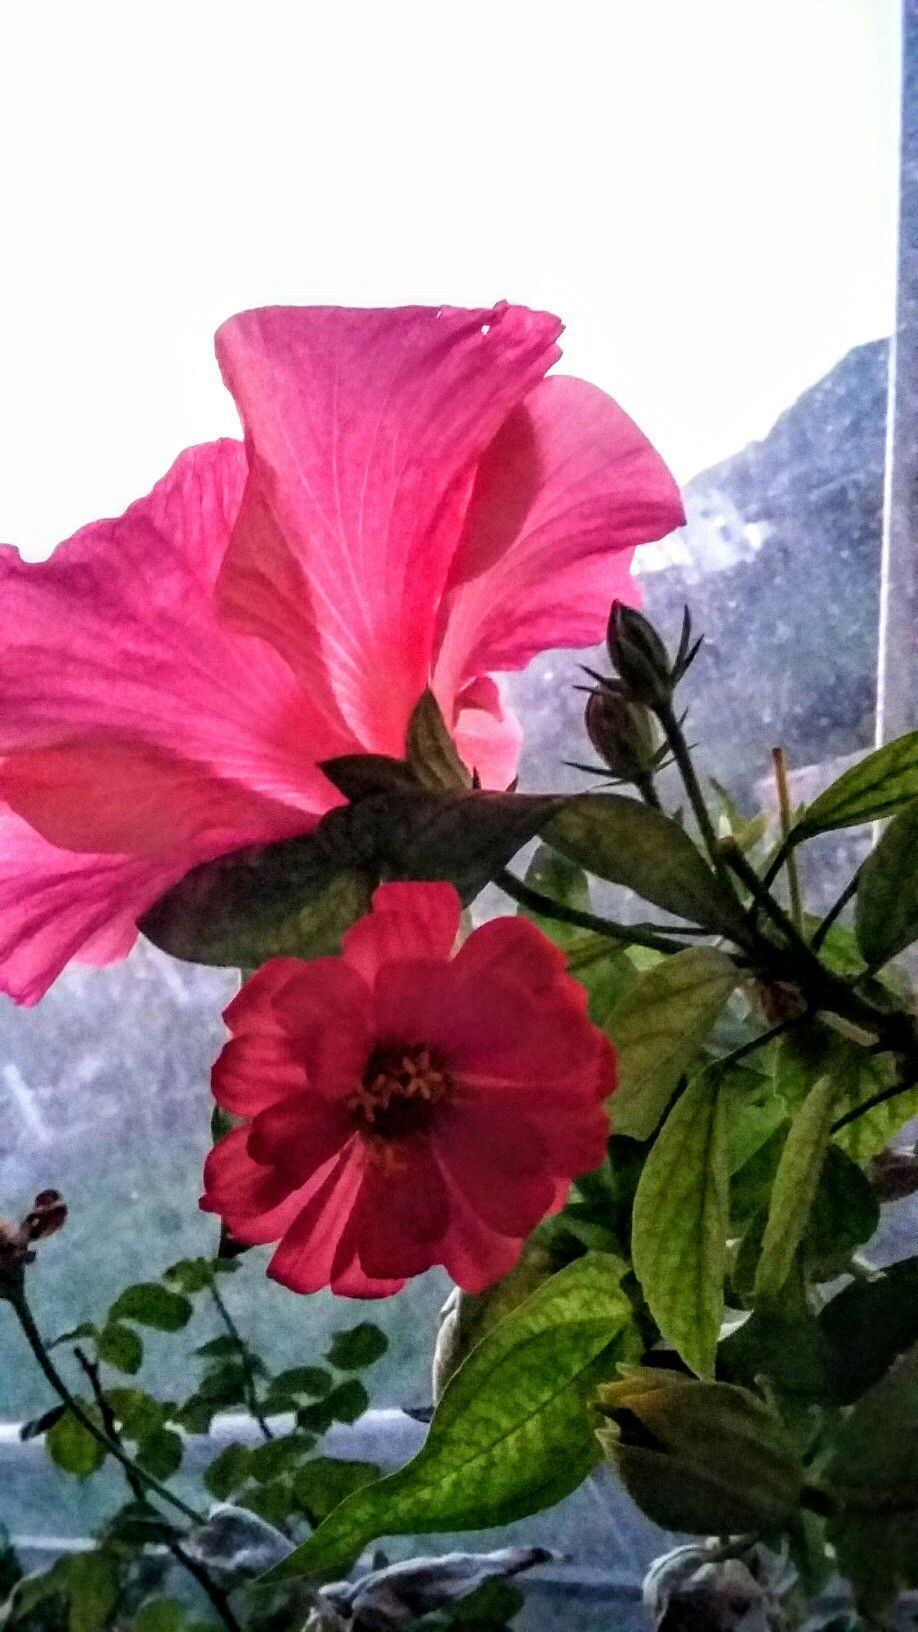Hibiscus: (1, 296, 669, 992), (226, 910, 599, 1307), (555, 1314, 880, 1596), (559, 571, 723, 842)
